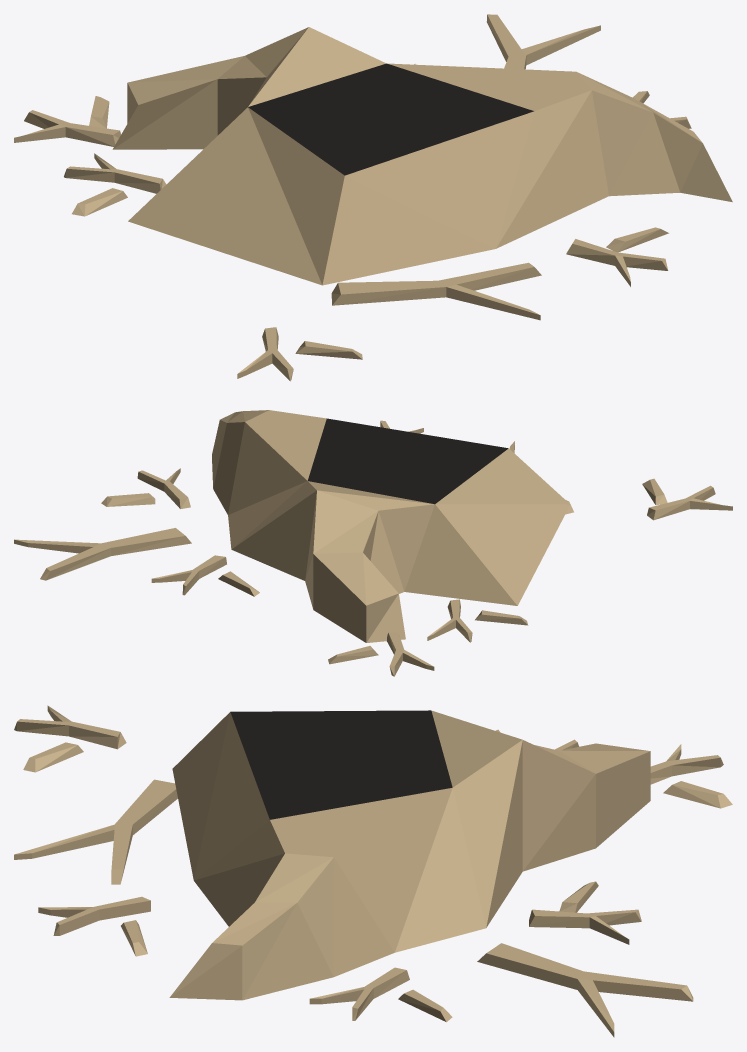
The model's file is obj_tree_stump_14_0.obj.
The picture shows the model from 3 angles, top to bottom: view 1: azimuth 30°, elevation 25°; view 2: azimuth 150°, elevation 25°; view 3: azimuth 270°, elevation 25°; orthographic projection. The views are drawn at different scales.
Size of the model in its own units: 1.98 by 0.3516 by 1.84.
